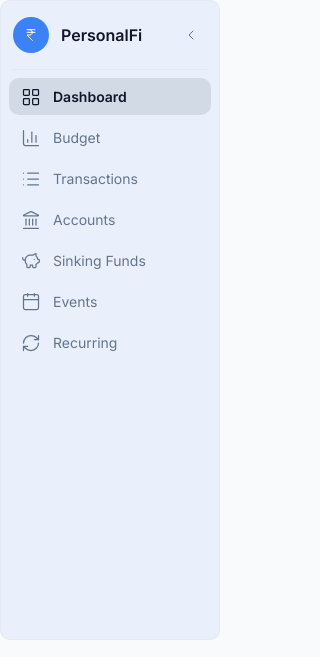
SideMenu › toggles collapsed state
The image size is (320, 657).
What coordinates should you click on to do the following:
click the button named "Collapse sidebar"
I would click on:
 (191, 35)
Its box is left=175, top=19, right=207, bottom=51.
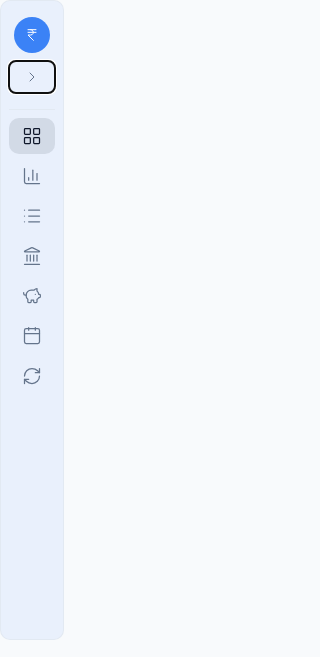
Now the element with class "side-menu--collapsed" is shown, box left=0, top=0, right=64, bottom=640
